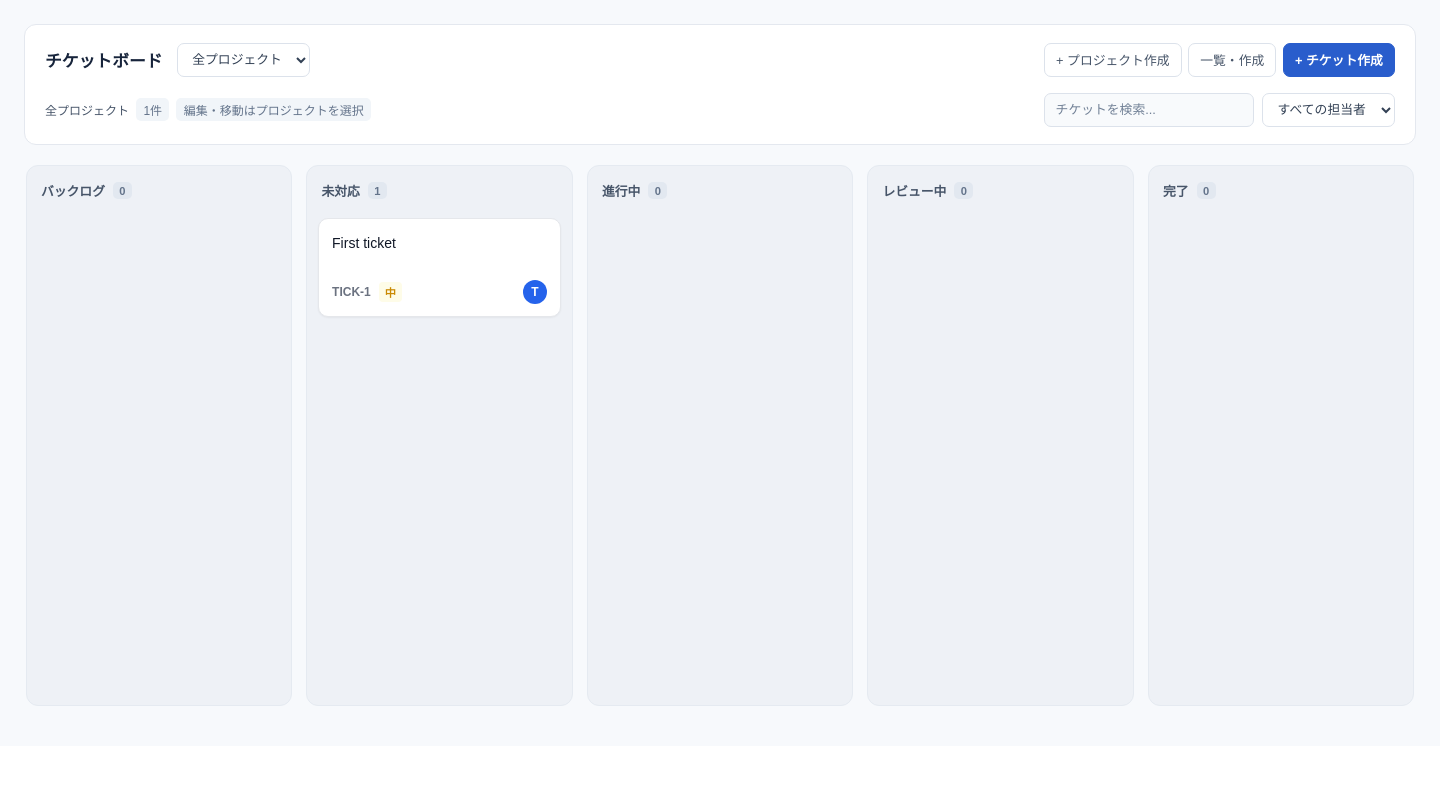
saves ticket detail edits through the API and displays the updated result
The width and height of the screenshot is (1440, 810).
Select "General" in the dropdown named "プロジェクト" at (243, 60), box [177,43,310,77]
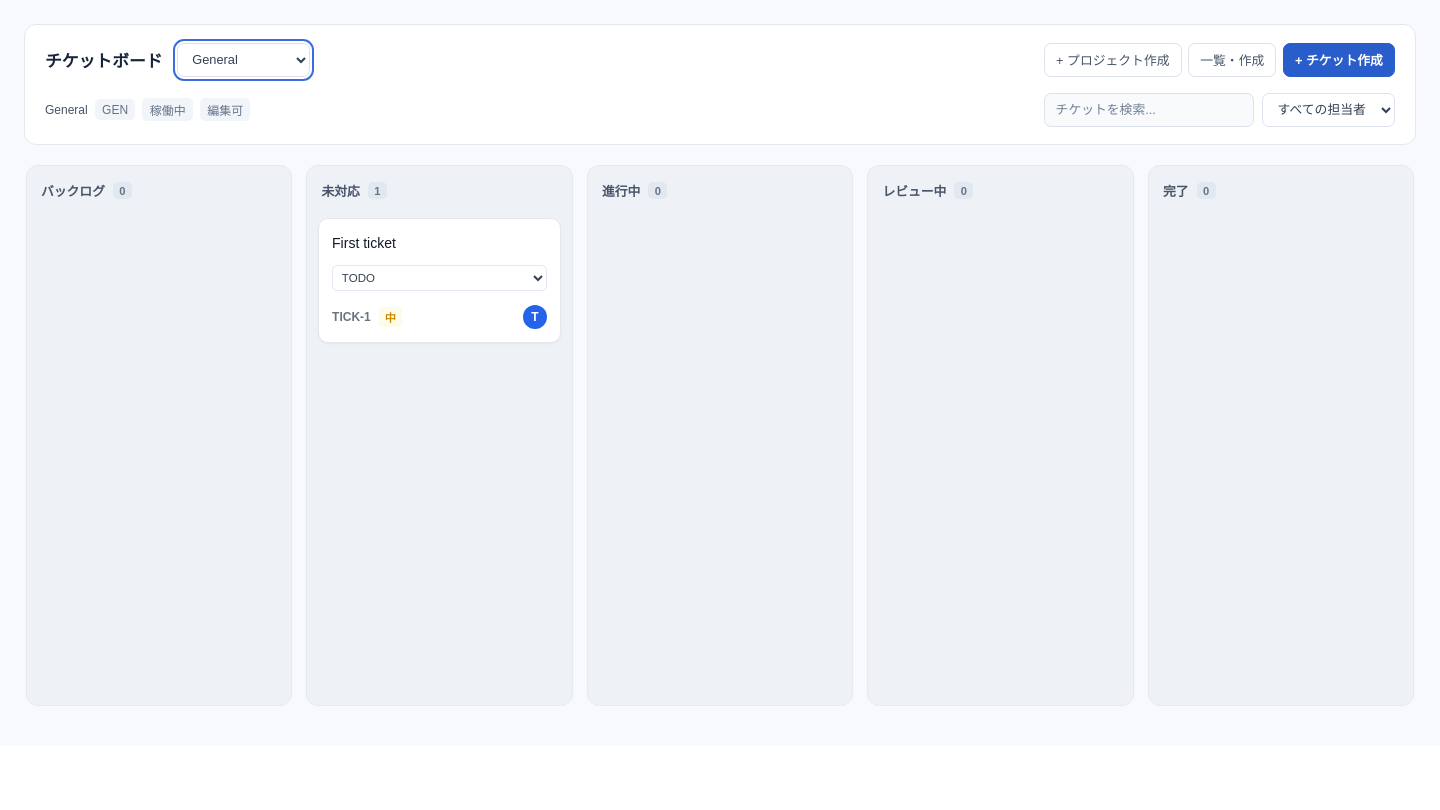
Click the button with aria-label "TICK-1 の詳細を開く" at (364, 243), box [332,232,396,255]
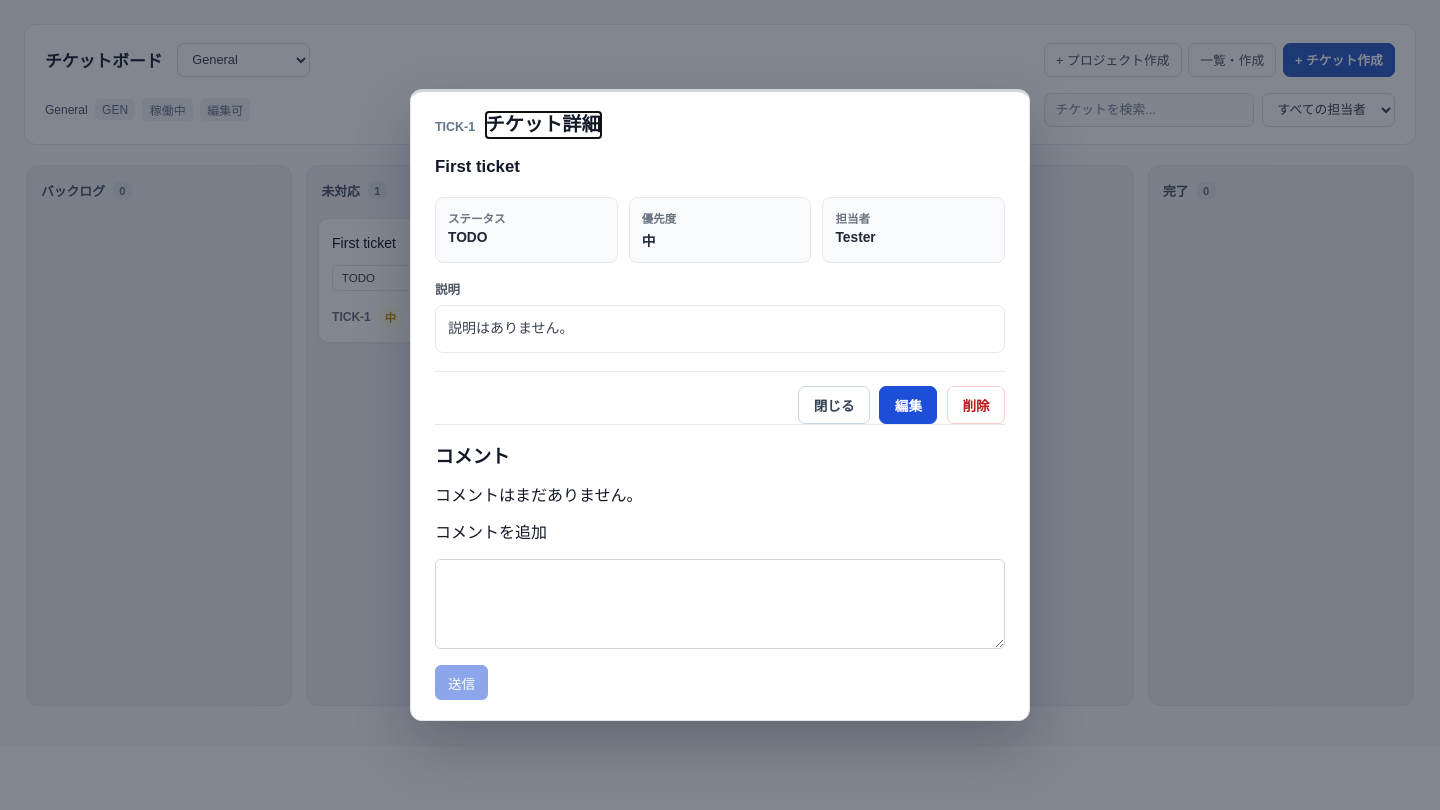
Result: the heading "チケット詳細" is shown at [486,112,601,138]
Click the button "編集" at (908, 405), box [880,386,938,424]
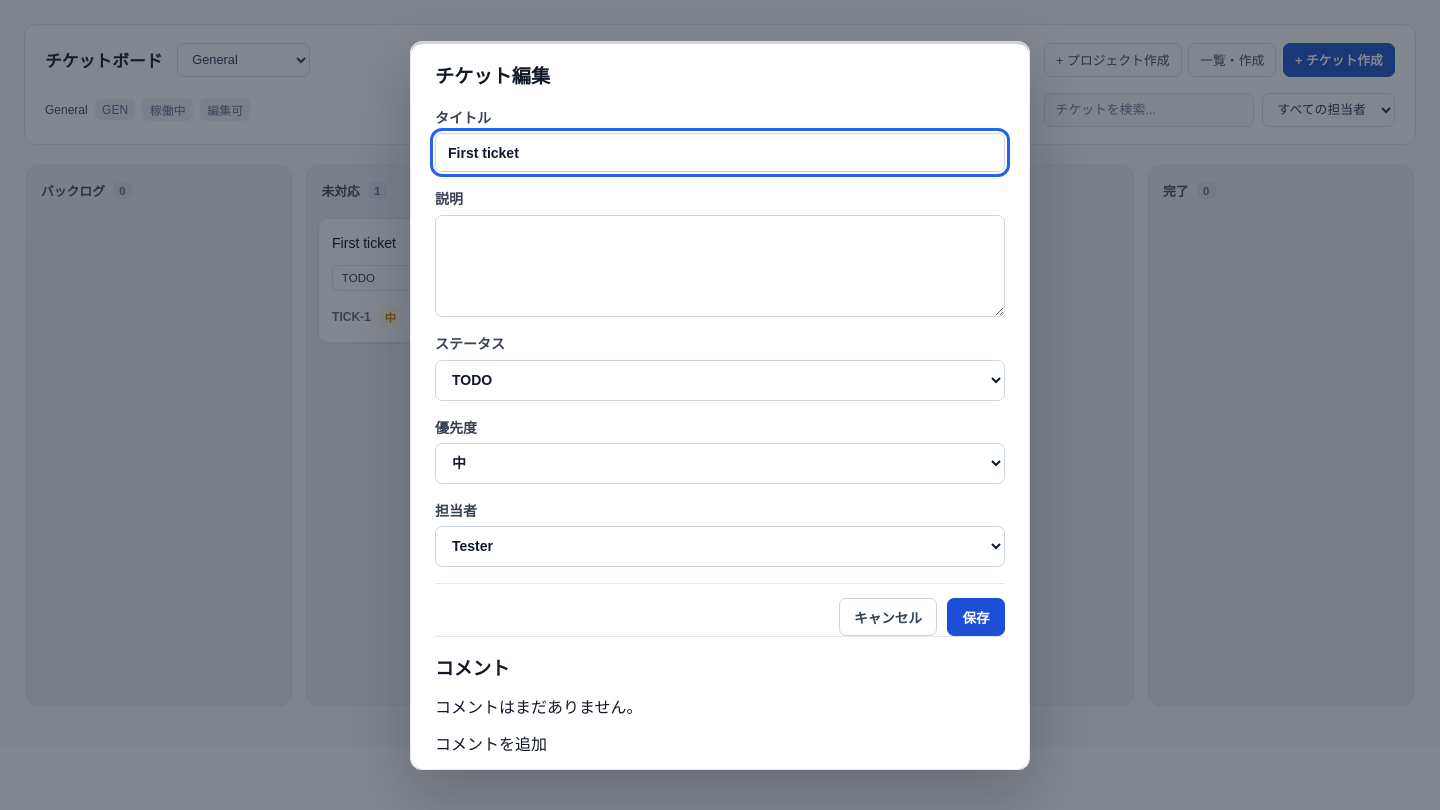
Replace the text in the field labelled "タイトル" with "Updated from detail" at (720, 153), box [435,133,1005,172]
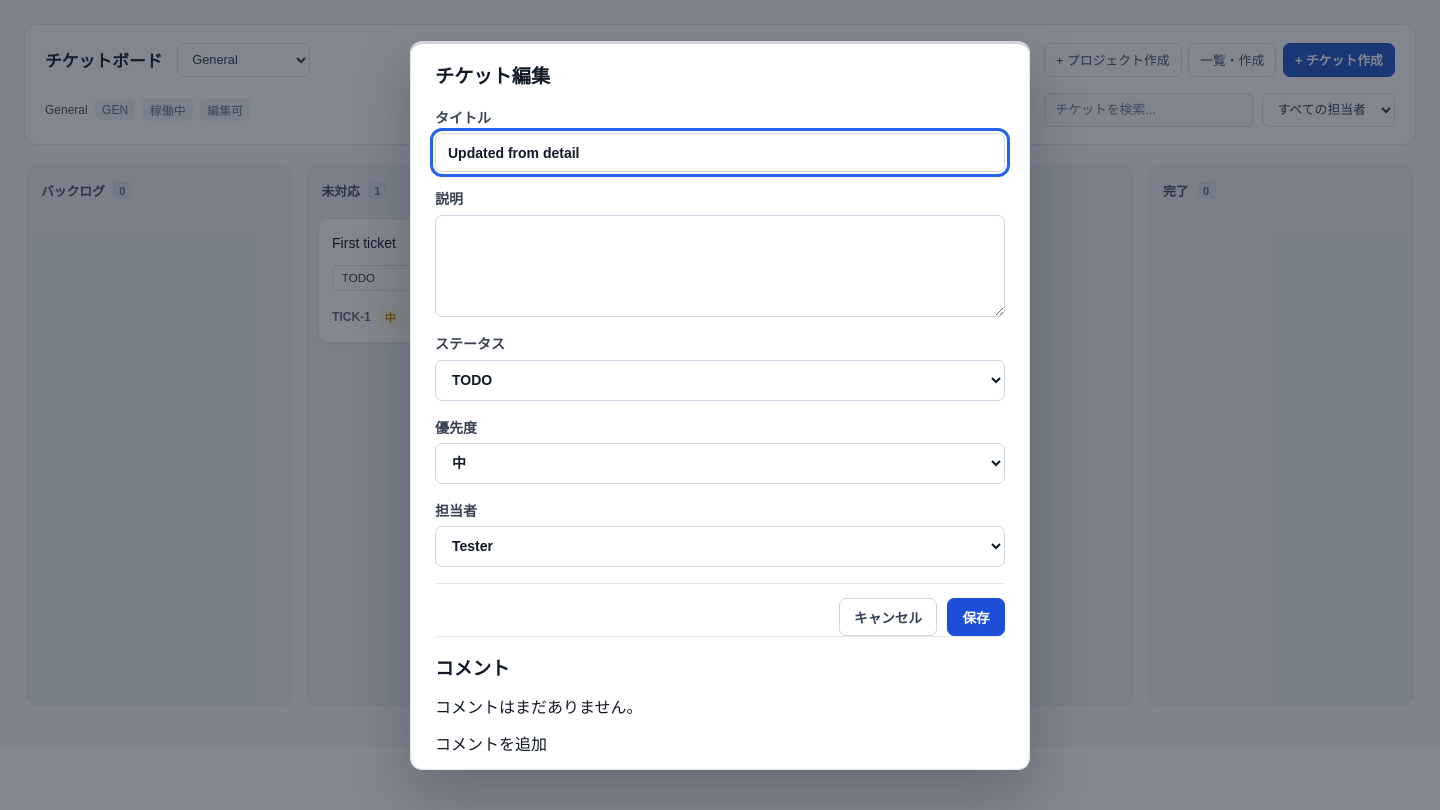
Click the button "保存" at (976, 617), box [947,598,1005,636]
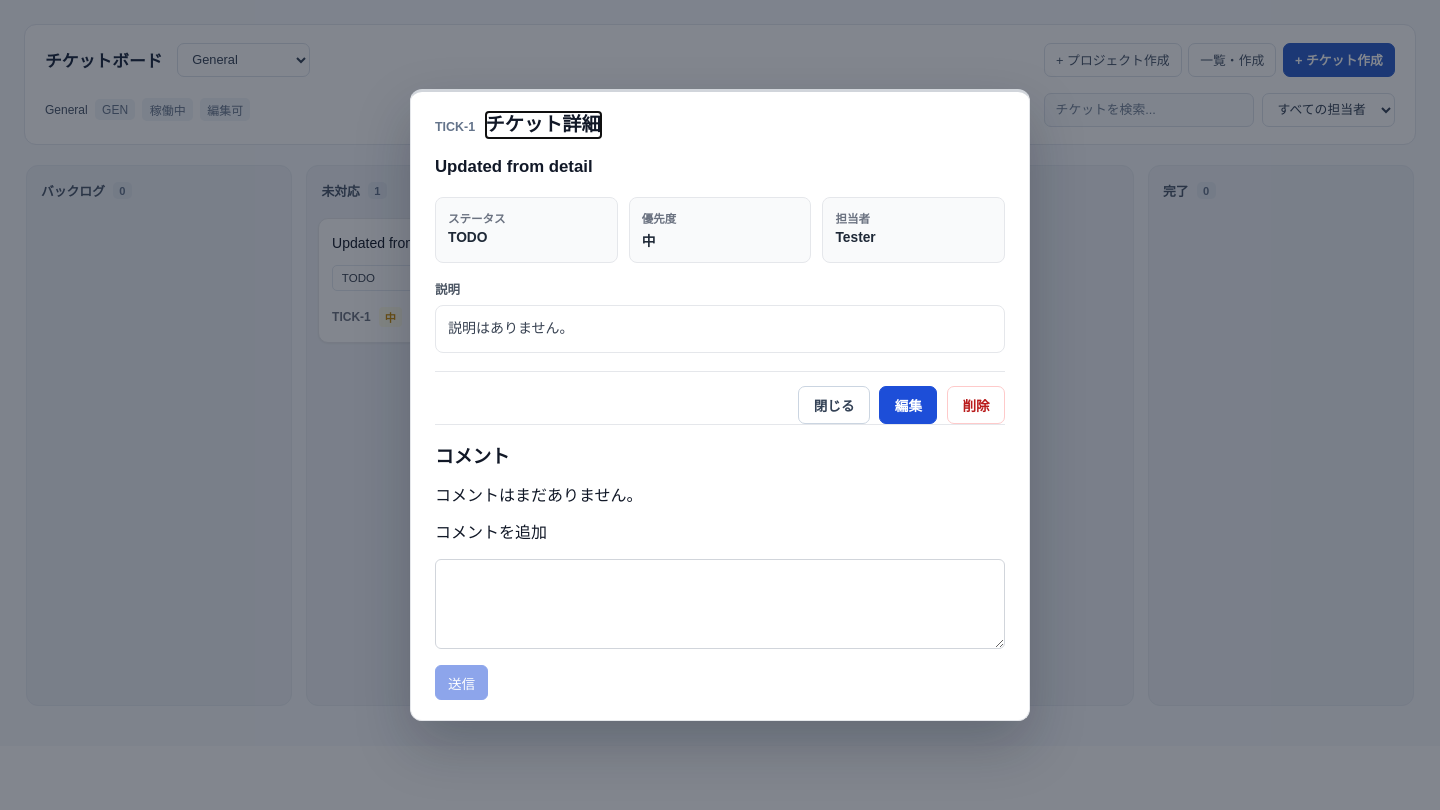
Result: the heading "チケット詳細" is shown at [486,112,601,138]
Result: the heading "Updated from detail" is shown at [435,158,593,176]
